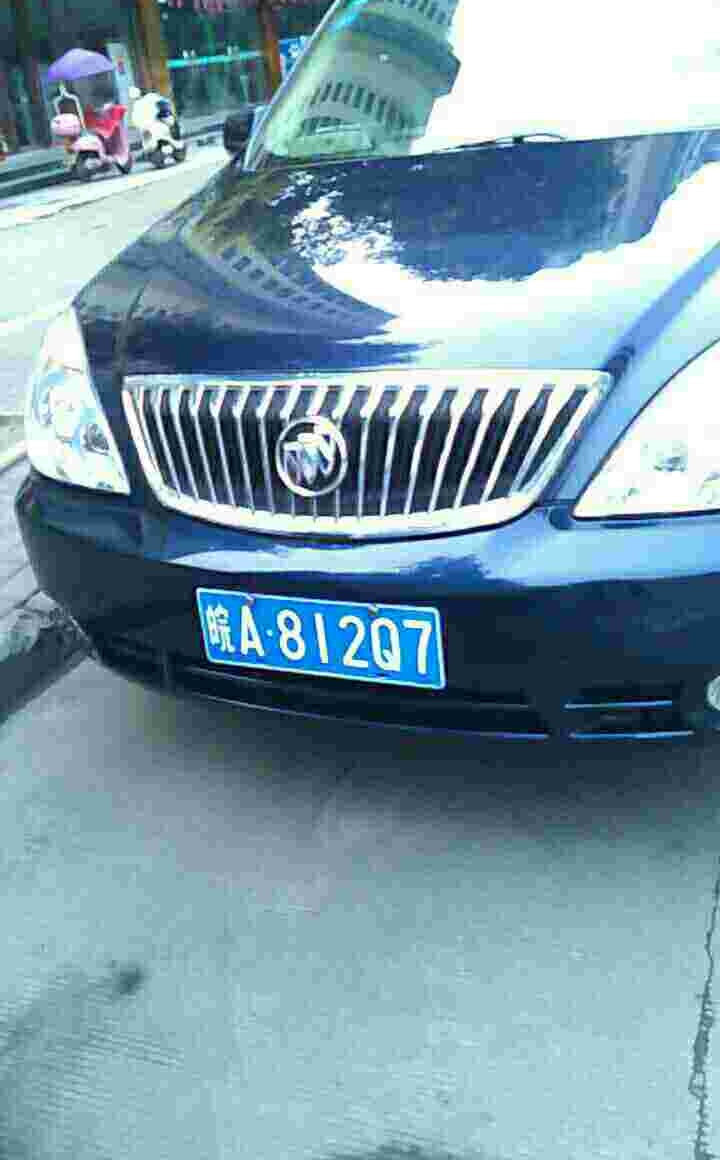license_plate: (200, 585, 440, 690)
